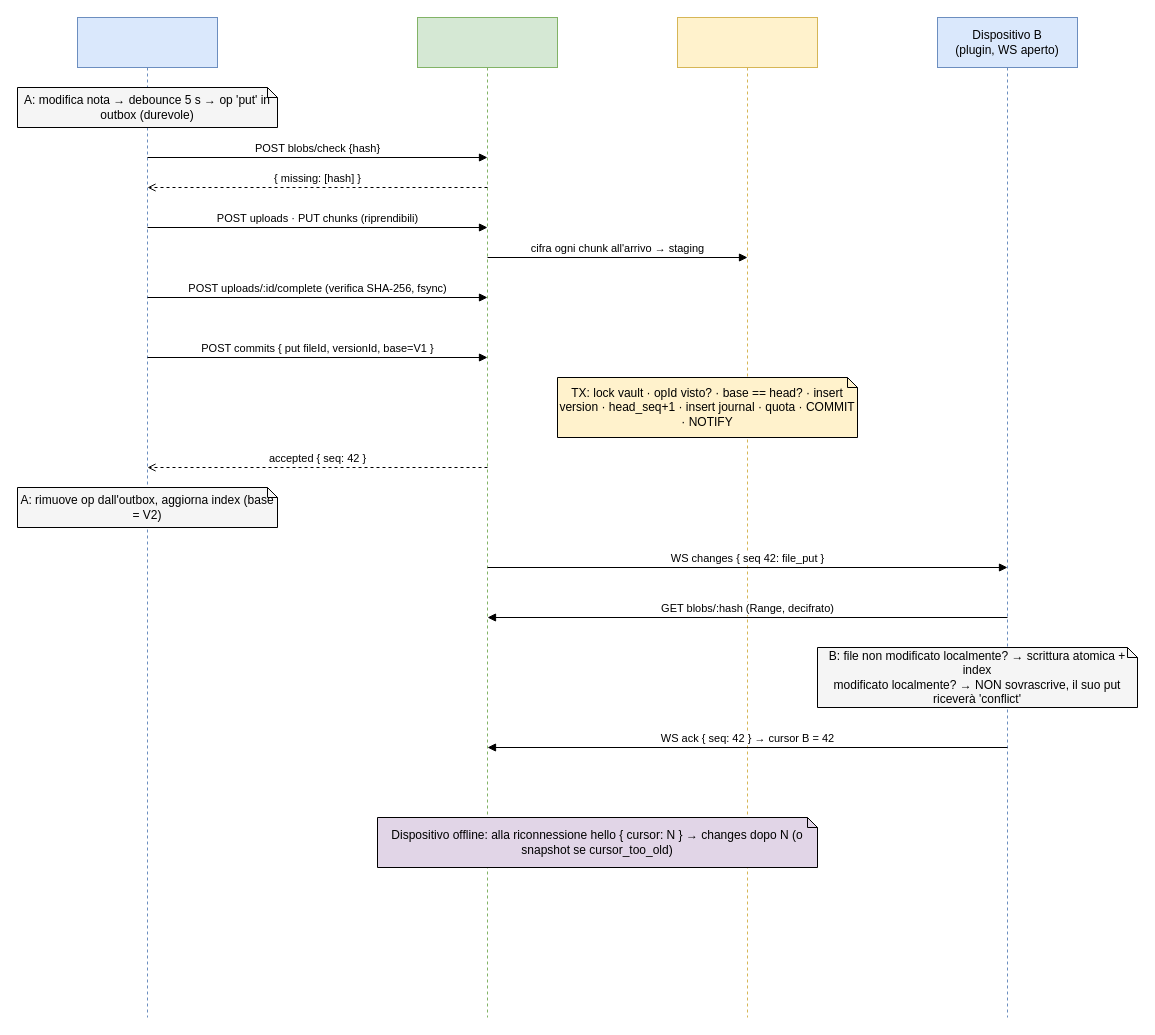
The diagram is 1155 pixels wide and 1035 high, and some of its shapes have lost their labels. Here are the shapes that lost their labels. From the top down, the box of each, then its label:
(76, 16, 218, 1018): Dispositivo A (plugin)
(416, 16, 558, 1018): Server (sync + blobs)
(676, 16, 818, 1018): Postgres + storage
